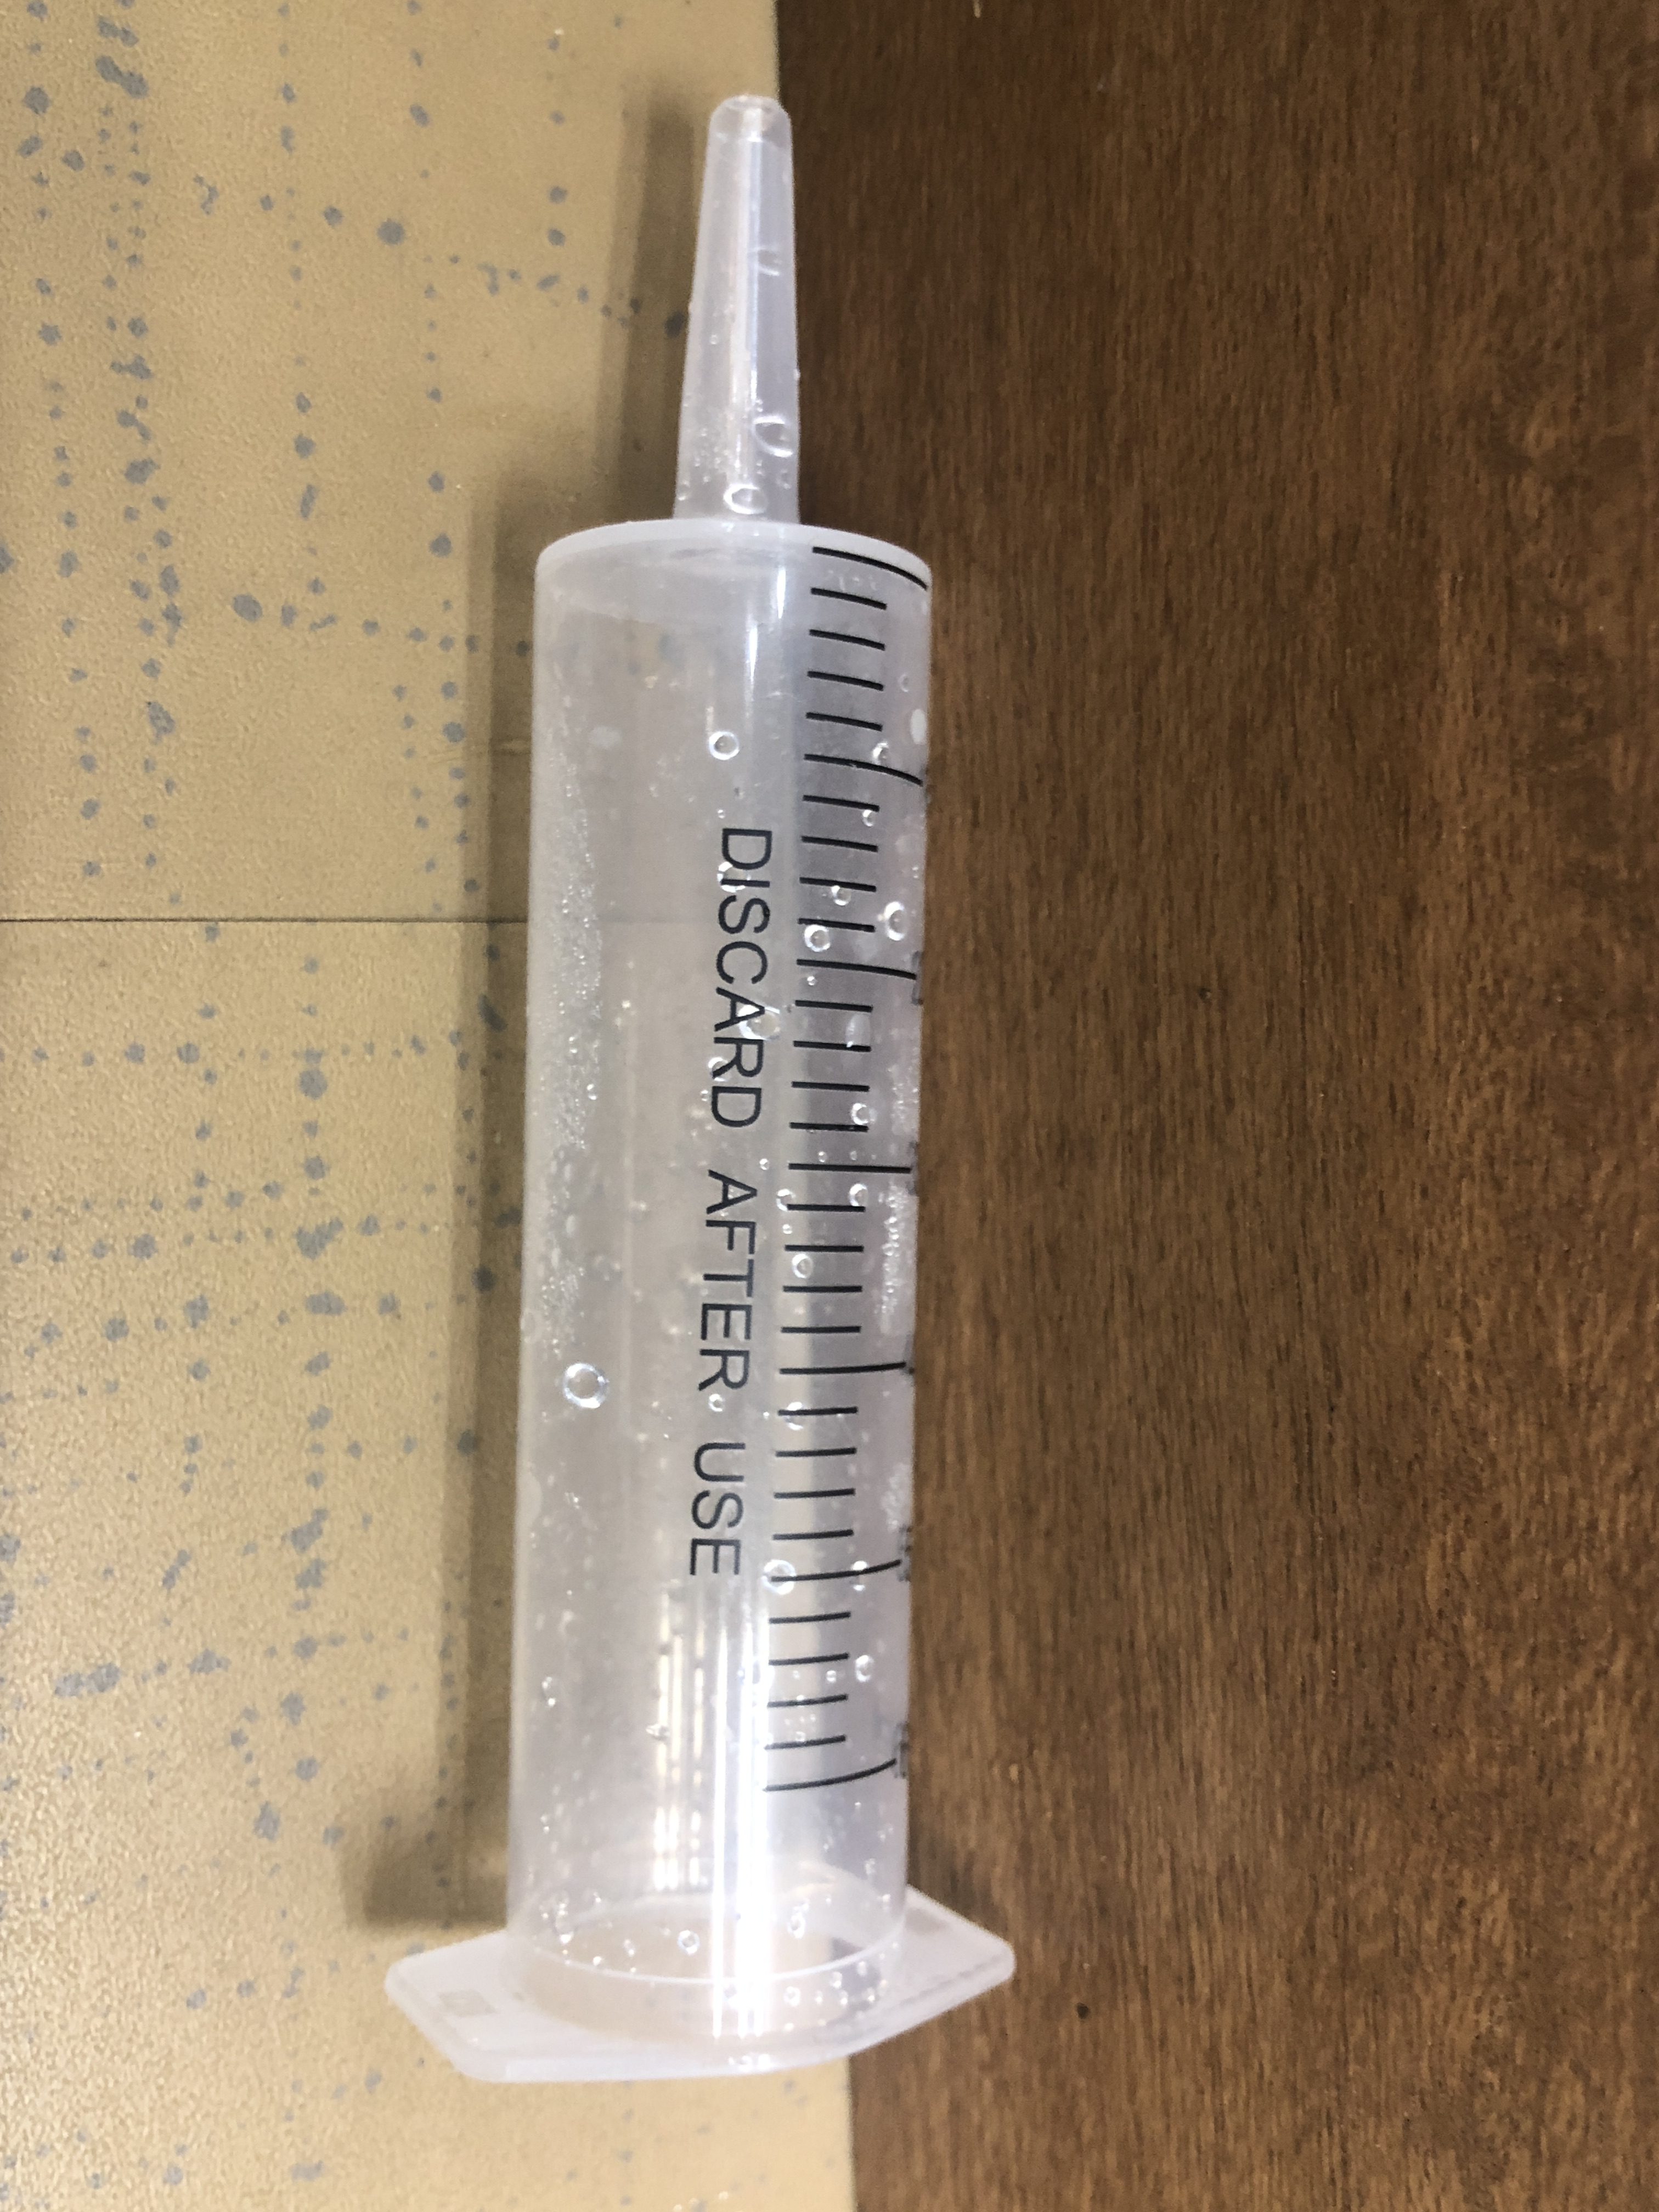syringe: (366, 89, 1025, 2087)
